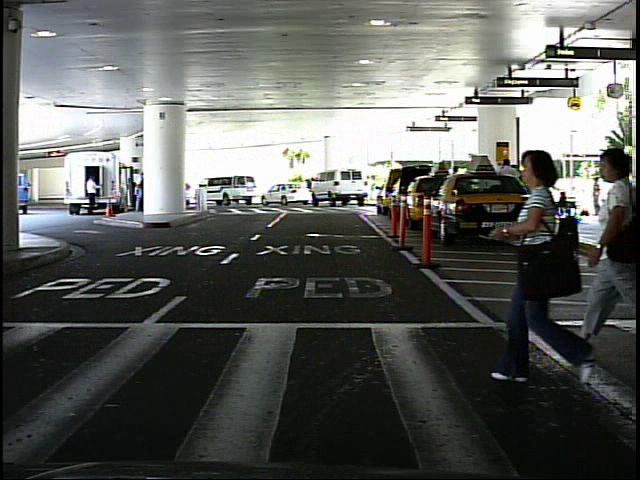person: (498, 138, 587, 396), (588, 172, 607, 218), (85, 172, 103, 218), (365, 171, 379, 206)
